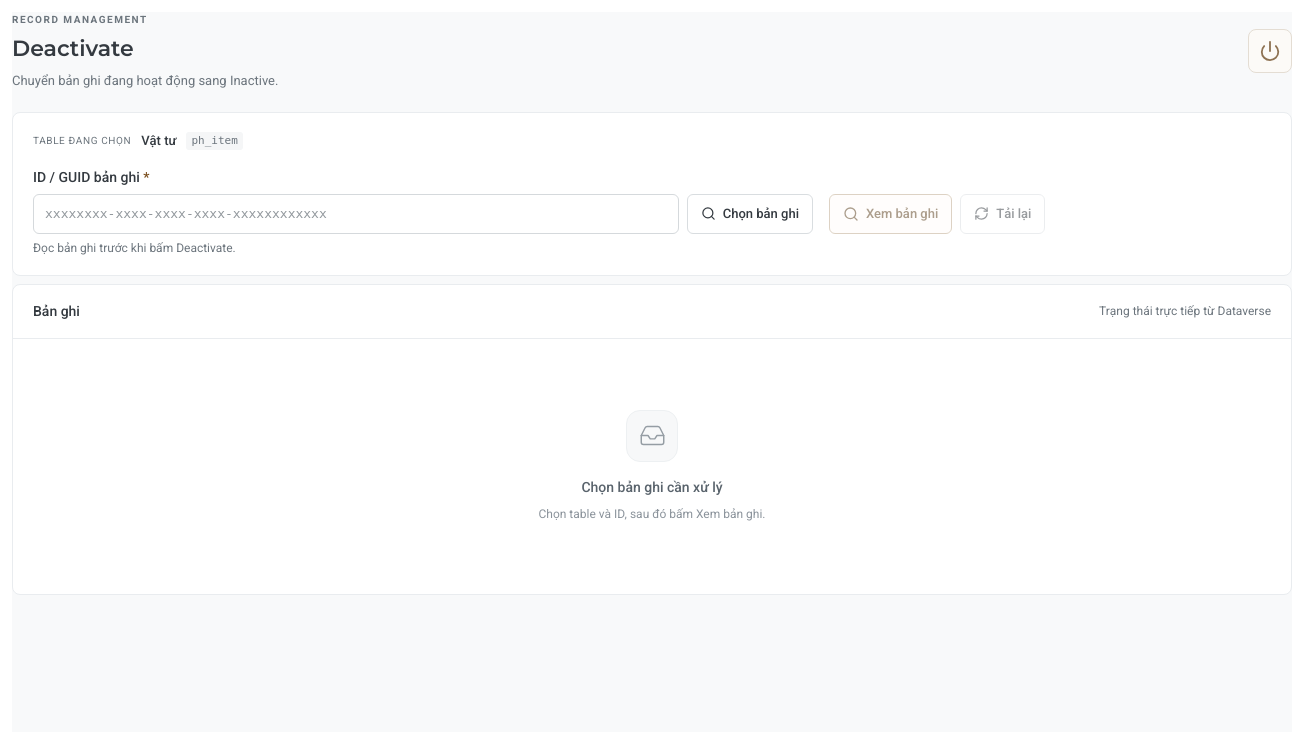
Test: Deactivate page targets Inactive and hides Delete
Type "00000000-0000-0000-0000-000000000001" into the field labelled "ID / GUID bản ghi *".
click(356, 214); type("00000000-0000-0000-0000-000000000001")  # box [33,194,679,234]
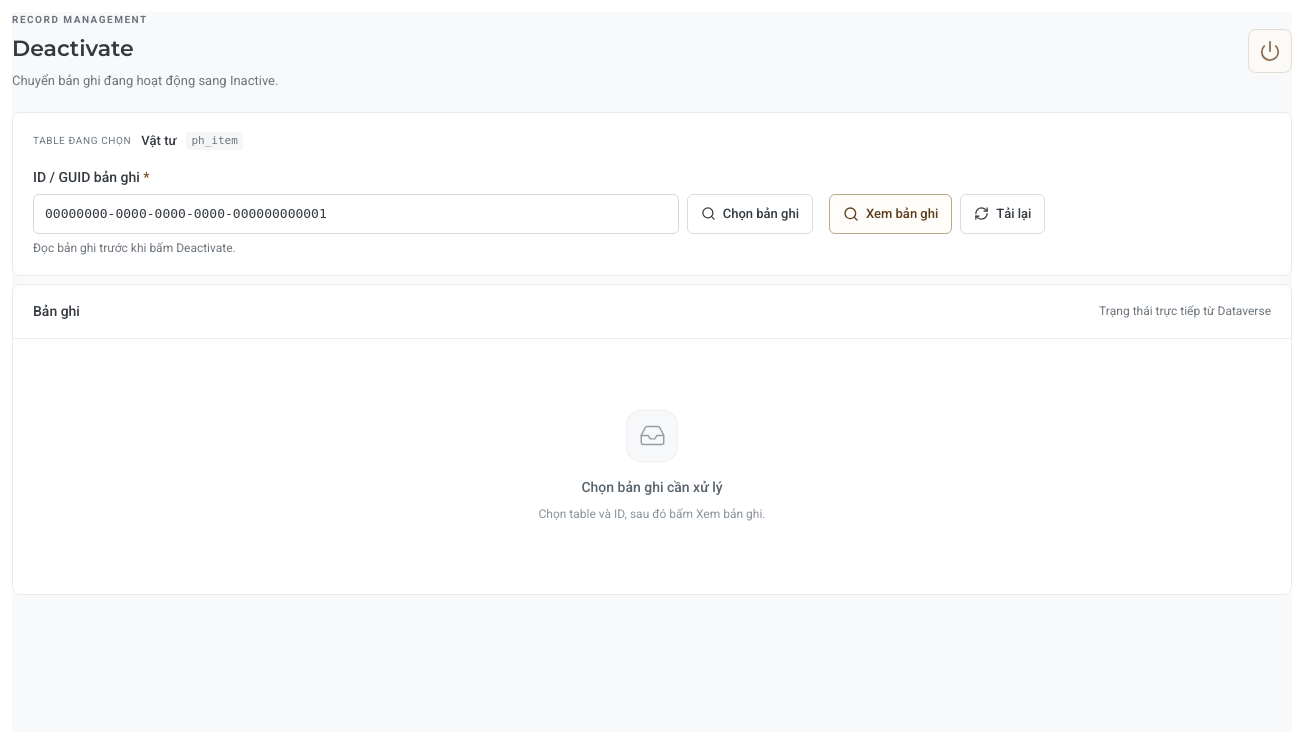
Click the button "Xem bản ghi".
click(891, 214)  # box [829,194,952,234]
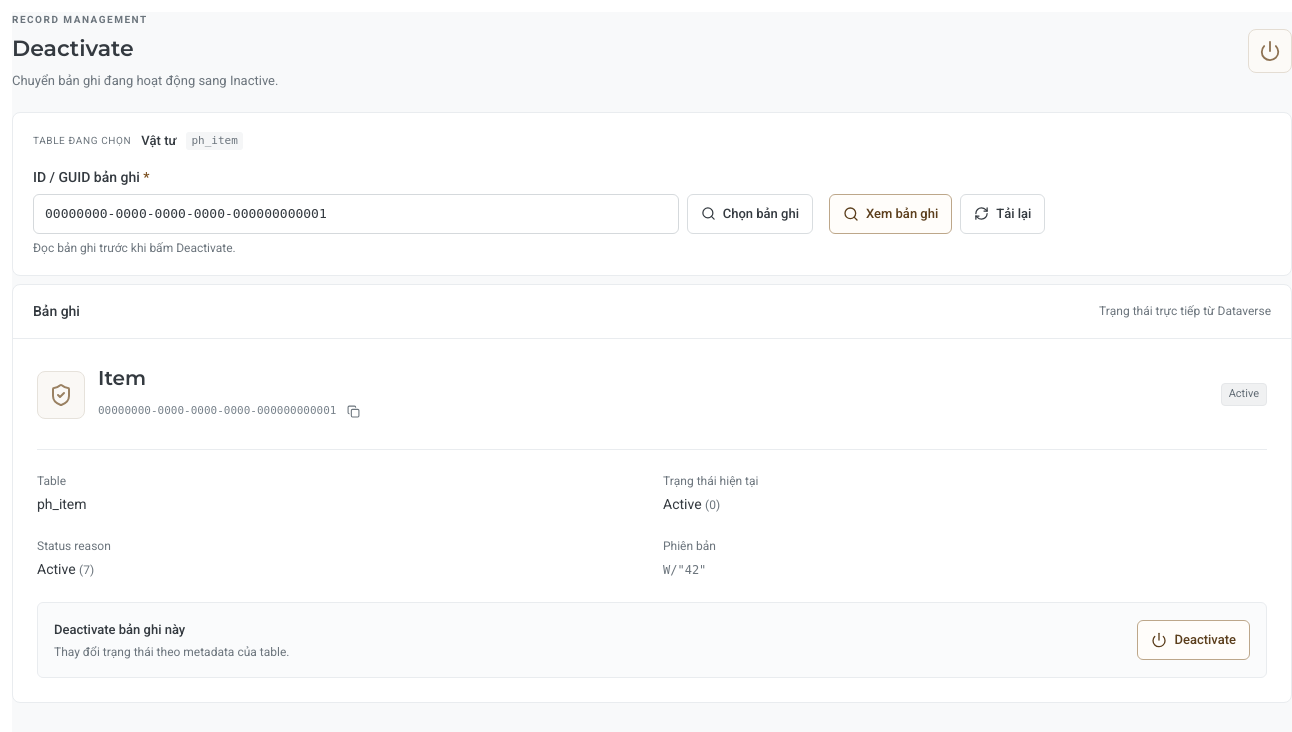
Click the button "Deactivate".
click(1194, 640)  # box [1138,620,1250,660]
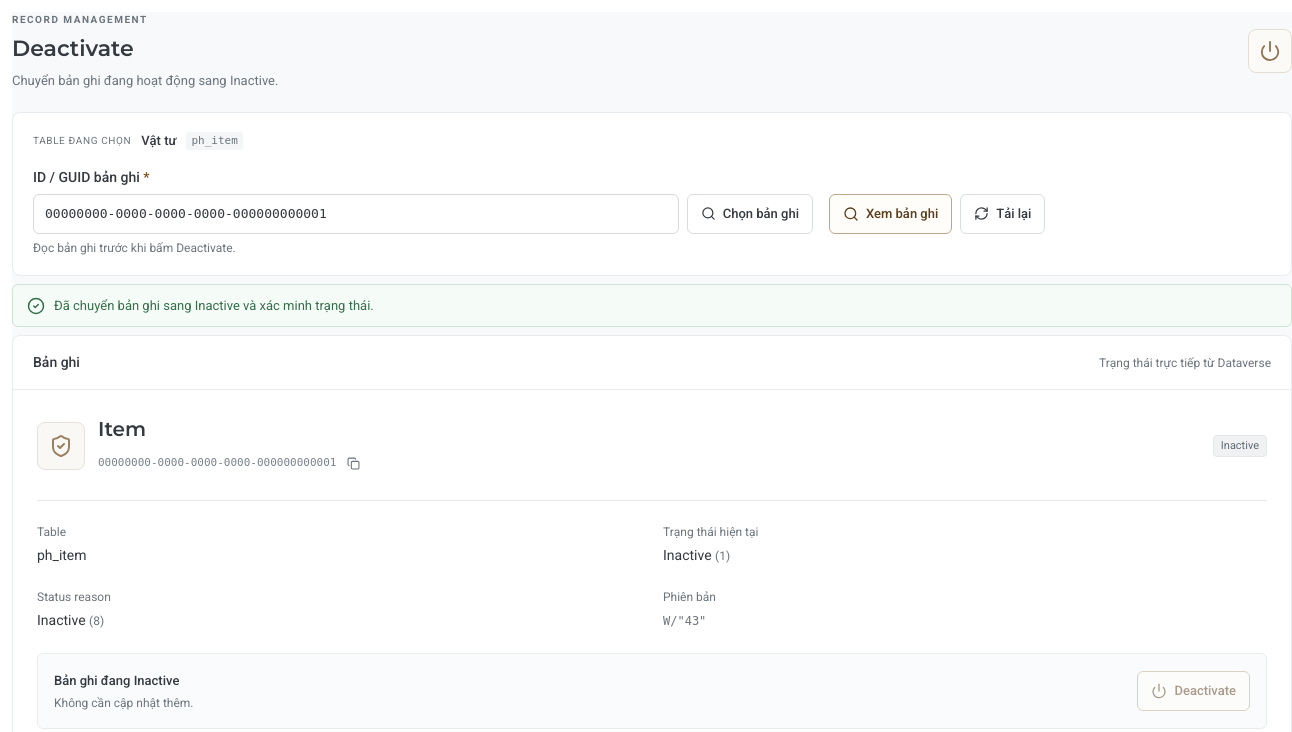
Result: the text "Đã chuyển bản ghi sang Inactive và xác minh trạng thái." is shown at [54,296,374,315]
Result: the button "Deactivate" is disabled at [1138,671,1250,711]
